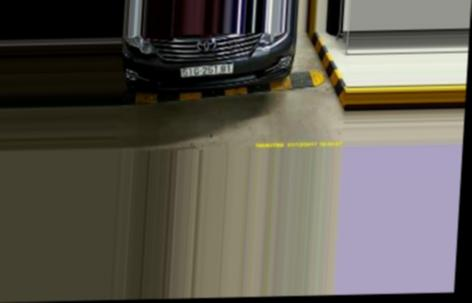License_Plate: (179, 62, 235, 78)
